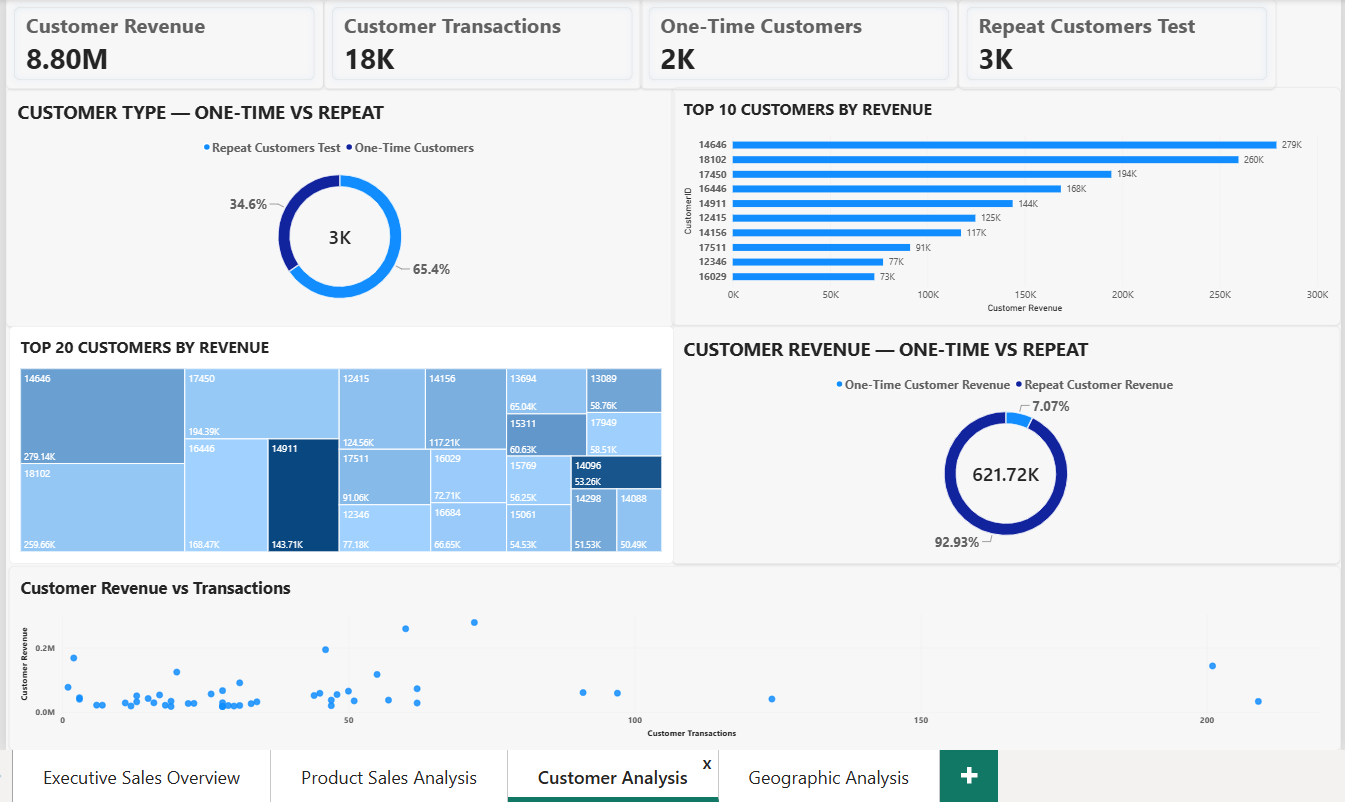

The page's visual inventory and layout, read from the dashboard file:
{"tool":"powerbi","page":{"name":"Customer Analysis","canvas":[1920,1080],"ordinal":2},"visuals":[{"type":"cardVisual","fields":{"Data":["online_retail_sales.Customer Revenue"]},"box":[0,0,456.5,129.5],"z":0},{"type":"cardVisual","fields":{"Data":["online_retail_sales.Customer Transactions"]},"box":[456.5,0,456.5,129.5],"z":1000},{"type":"cardVisual","fields":{"Data":["online_retail_sales.One-Time Customers"]},"box":[913.1,0,456.5,129.5],"z":2000},{"type":"cardVisual","fields":{"Data":["online_retail_sales.Repeat Customers Test"]},"box":[1369.6,0,456.5,129.5],"z":3000},{"type":"donutChart","title":"CUSTOMER TYPE — ONE-TIME VS REPEAT","fields":{"Y":["online_retail_sales.Repeat Customers Test","online_retail_sales.One-Time Customers"]},"box":[0,129,960.9,342.2],"z":4000},{"type":"clusteredBarChart","title":"TOP 10 CUSTOMERS BY REVENUE","fields":{"Category":["online_retail_sales.CustomerID"],"Y":["online_retail_sales.Customer Revenue"]},"box":[958.5,128.3,961,342],"z":5000},{"type":"donutChart","title":"CUSTOMER REVENUE — ONE-TIME VS REPEAT","fields":{"Y":["online_retail_sales.One-Time Customer Revenue","online_retail_sales.Repeat Customer Revenue"]},"box":[958.3,471.2,960.9,342.2],"z":6000},{"type":"scatterChart","title":"Customer Revenue vs Transactions","fields":{"Category":["online_retail_sales.CustomerID"],"X":["online_retail_sales.Customer Transactions"],"Y":["online_retail_sales.Customer Revenue"]},"box":[4.3,815.4,1915.6,265.3],"z":7000},{"type":"treemap","title":"TOP 20 CUSTOMERS BY REVENUE","fields":{"Group":["online_retail_sales.CustomerID"],"Values":["online_retail_sales.Customer Revenue"]},"box":[5.3,471.2,956,342],"z":8000}]}

Visuals, with their boxes on the page's 1920x1080 design canvas (x1, y1, x2, y2). These are canvas units, not pixel positions in the 1345x802 screenshot, which may show the page scaled, cropped or inside an application window:
cardVisual - online_retail_sales.Customer Revenue: region(0, 0, 456, 130)
cardVisual - online_retail_sales.Customer Transactions: region(456, 0, 913, 130)
cardVisual - online_retail_sales.One-Time Customers: region(913, 0, 1370, 130)
cardVisual - online_retail_sales.Repeat Customers Test: region(1370, 0, 1826, 130)
"CUSTOMER TYPE — ONE-TIME VS REPEAT" donutChart: region(0, 129, 961, 471)
"TOP 10 CUSTOMERS BY REVENUE" clusteredBarChart: region(958, 128, 1920, 470)
"CUSTOMER REVENUE — ONE-TIME VS REPEAT" donutChart: region(958, 471, 1919, 813)
"Customer Revenue vs Transactions" scatterChart: region(4, 815, 1920, 1081)
"TOP 20 CUSTOMERS BY REVENUE" treemap: region(5, 471, 961, 813)
